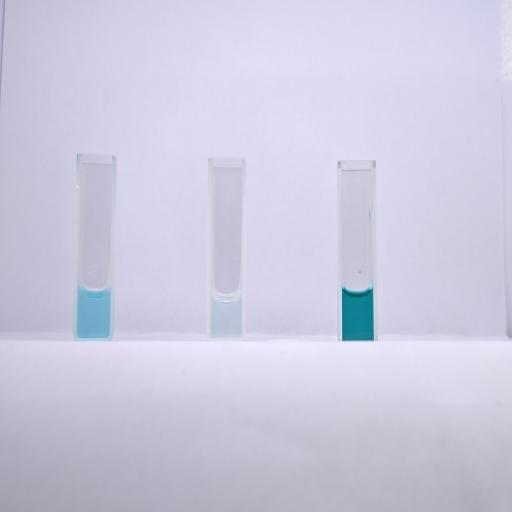cuvette: (72, 152, 118, 342), (336, 158, 380, 343), (206, 154, 249, 342)
liquid: (77, 288, 110, 338), (342, 288, 374, 337), (210, 293, 242, 337)
